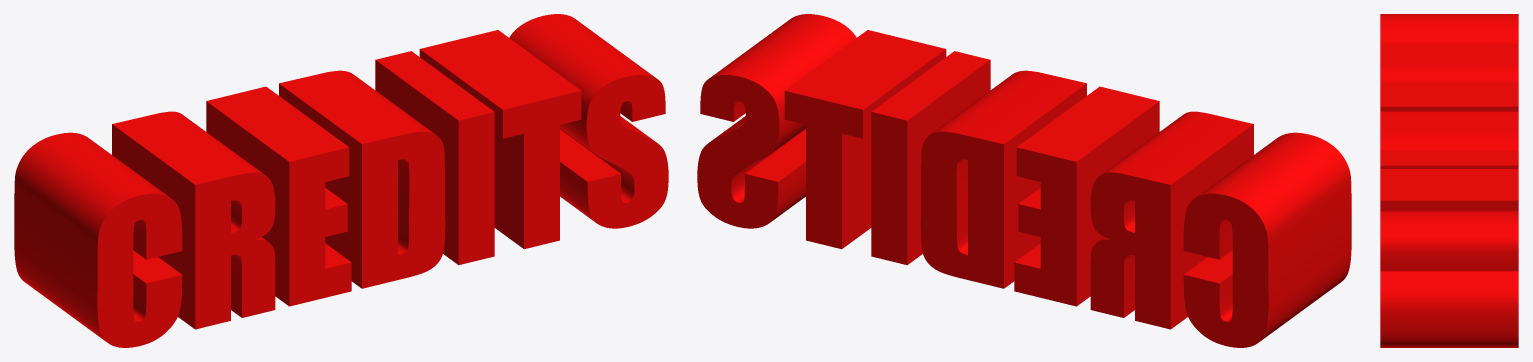
File: CREDITS.dae
3 views of the same model, side by side, from view 1: azimuth 30°, elevation 25°; view 2: azimuth 150°, elevation 25°; view 3: azimuth 270°, elevation 25° (orthographic). The views are drawn at different scales.
Parts seen in each view (by area): view 1: CREDITS; view 2: CREDITS; view 3: CREDITS.
Boxes of the visible parts, left/top/right/bottom form: CREDITS: left=14, top=14, right=668, bottom=347; CREDITS: left=697, top=14, right=1351, bottom=347; CREDITS: left=1380, top=14, right=1518, bottom=347.
Bounding box in the file's own units: 32.67 × 8.24 × 8.24.
